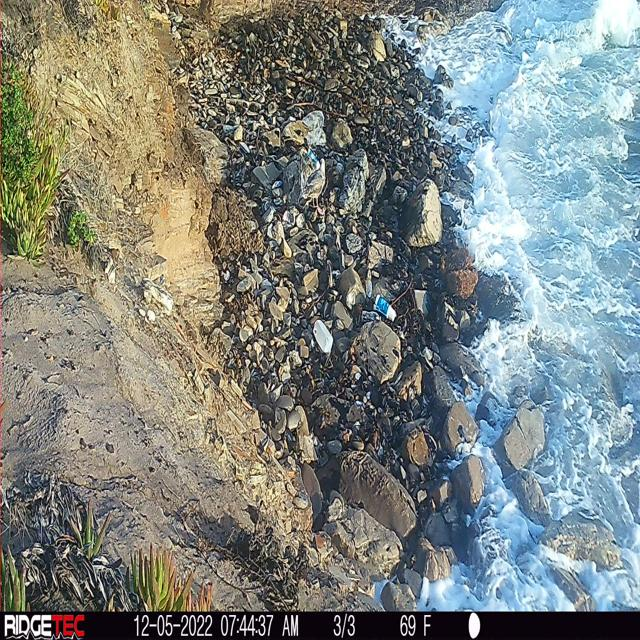bird: (298, 146, 330, 212)
